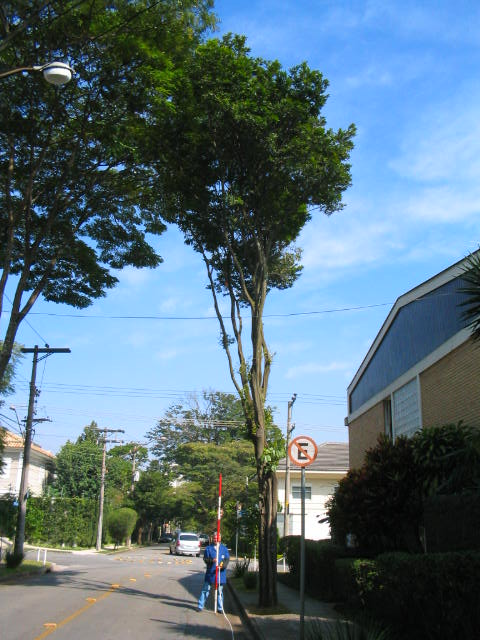crown: (122, 36, 364, 318), (1, 1, 210, 314)
stem: (241, 462, 298, 606)
stick: (212, 473, 229, 614)
tree: (120, 35, 365, 605)
